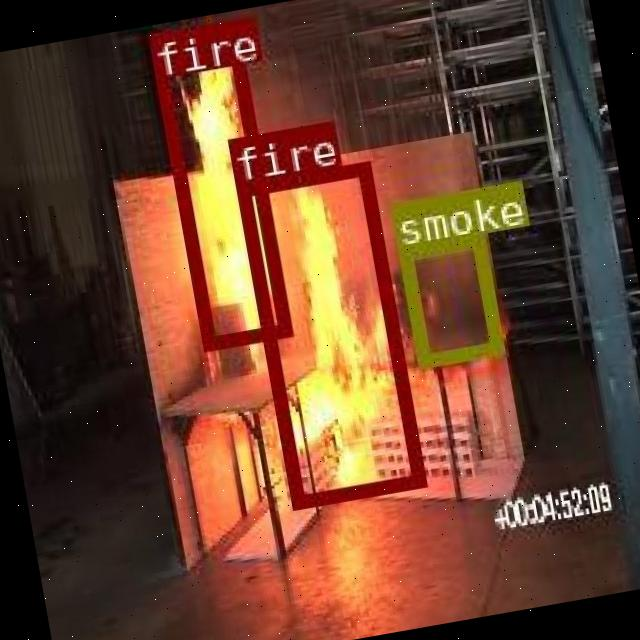fire: (233, 160, 423, 508), (145, 17, 288, 349)
smoke: (398, 232, 503, 366)
